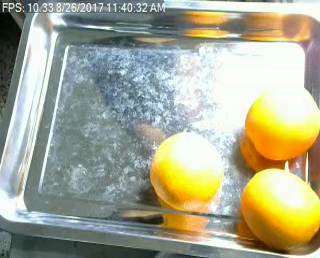Orange: (241, 168, 320, 250)
